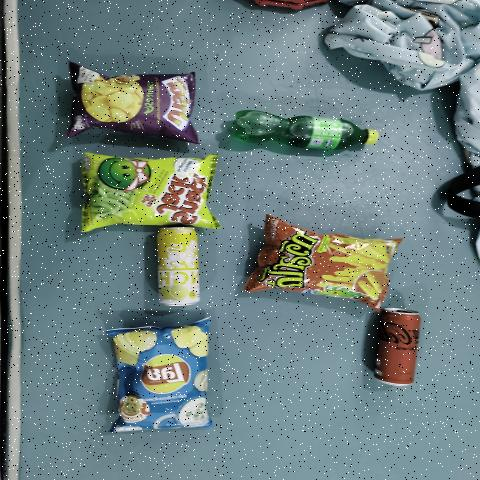coke_red: (373, 310, 421, 385)
fanta_green: (223, 118, 384, 145)
lay_blue: (119, 329, 209, 424)
party_purple: (80, 74, 186, 132)
singha_yellow: (158, 229, 194, 303)
snack_jack: (94, 159, 200, 219)
twisco: (278, 231, 374, 299)
